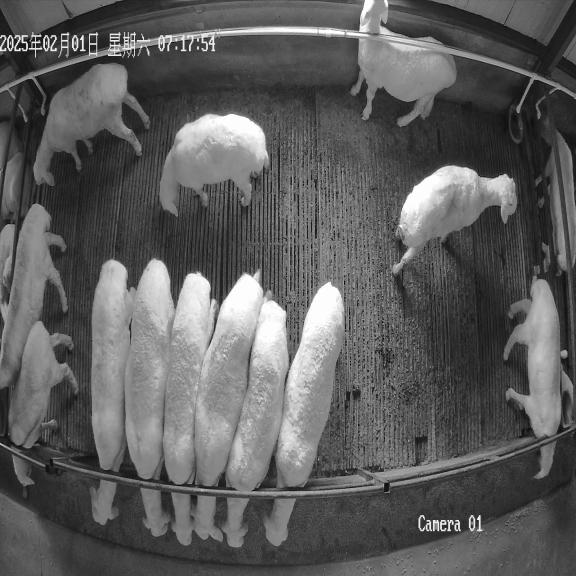eating: (263, 282, 344, 546), (194, 270, 263, 541), (222, 292, 289, 547), (163, 272, 217, 546), (125, 259, 175, 537), (8, 321, 79, 498), (90, 260, 134, 524), (504, 278, 561, 479)
stand: (34, 63, 150, 186), (392, 165, 517, 274), (351, 0, 457, 127), (0, 204, 67, 388), (160, 114, 269, 215)
